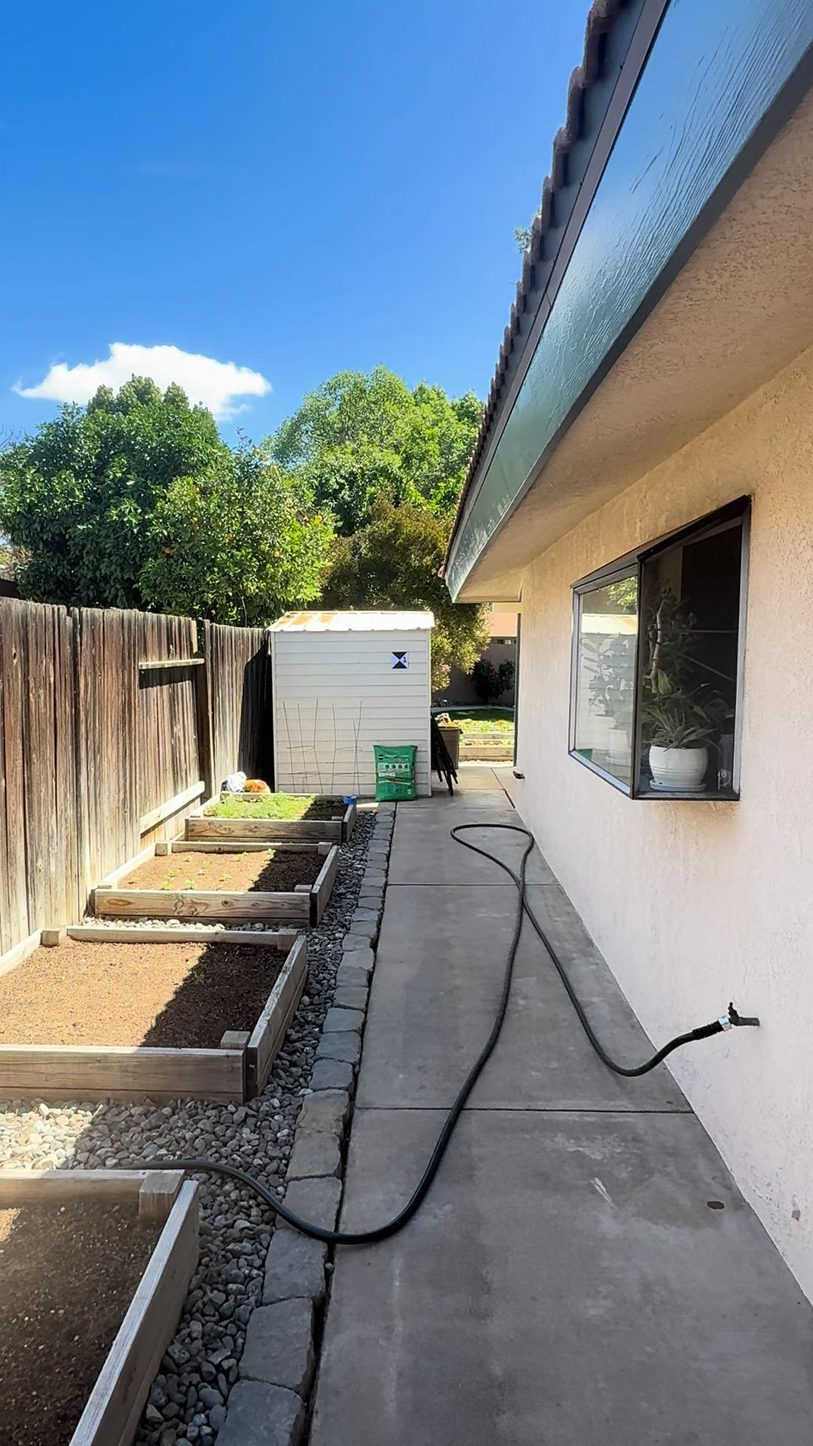target1: (391, 651, 410, 670)
